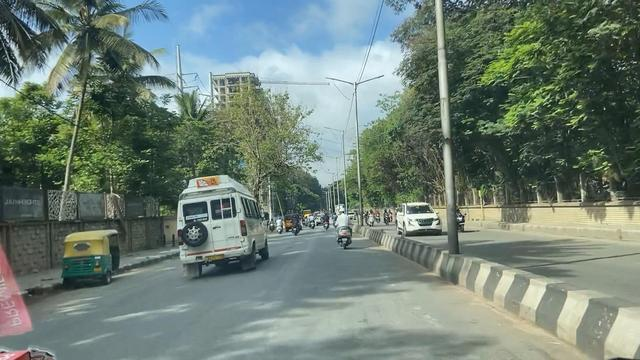HMV: (177, 183, 271, 275)
LMV: (67, 219, 122, 284)
